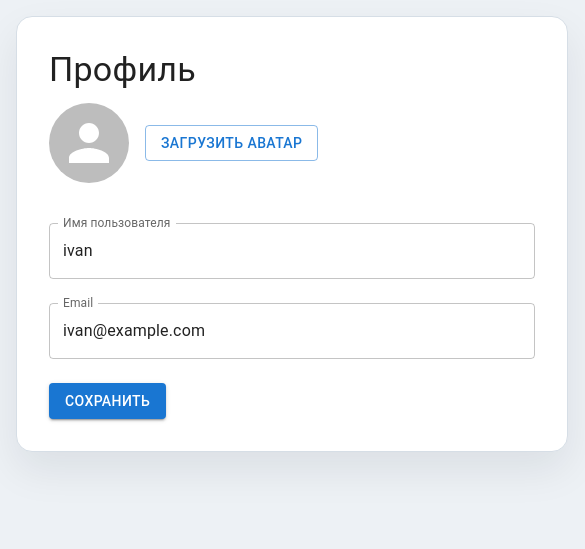
Test: ProfilePage › submits updated profile and shows success state
The width and height of the screenshot is (585, 549).
Replace the text in the field showing "ivan" with "ivan-updated" at (292, 251), box [49, 223, 535, 279]
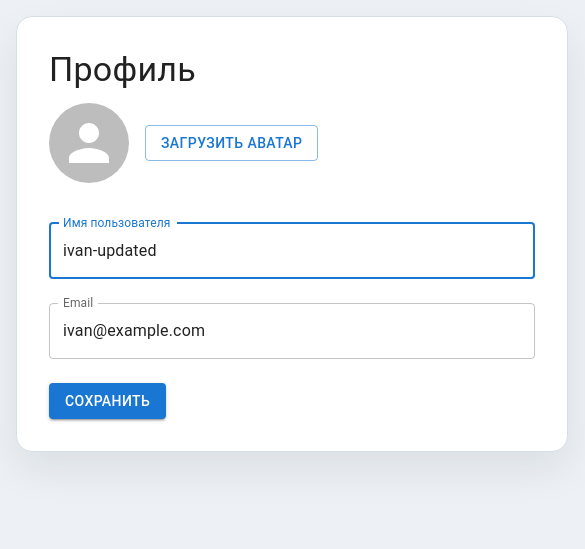
Replace the text in the field showing "ivan@example.com" with "new@example.com" at (292, 331), box [49, 303, 535, 359]
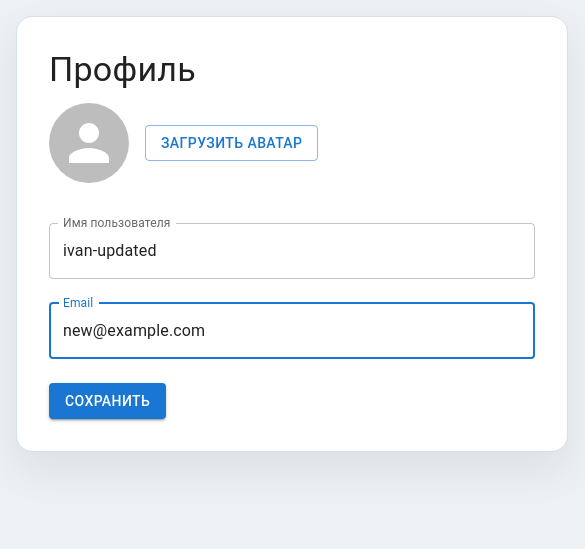
Click the button "Сохранить" at (108, 401), box [49, 383, 166, 419]
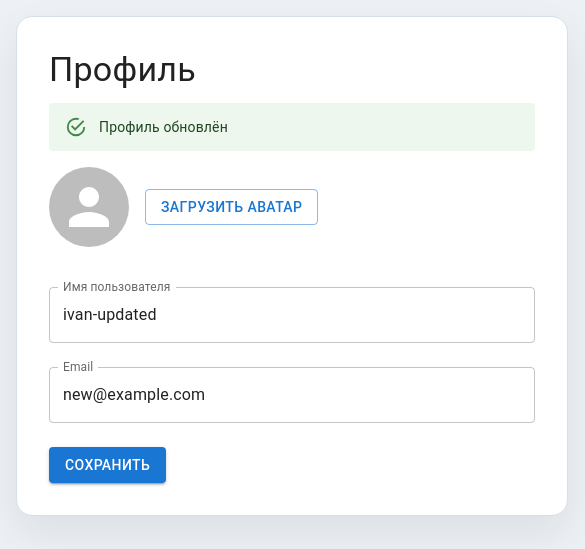
Expected: the text "Профиль обновлён" is shown, [99, 119, 228, 135]
